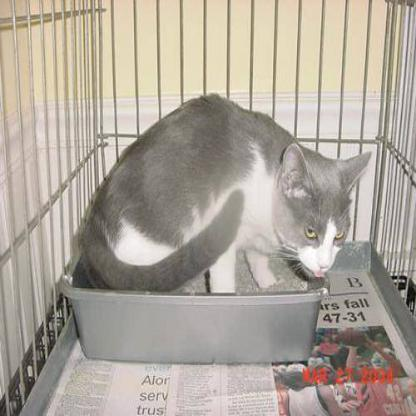cat: (118, 74, 358, 294)
